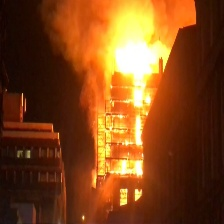fire: (103, 30, 150, 186)
smoke: (48, 1, 195, 38)
